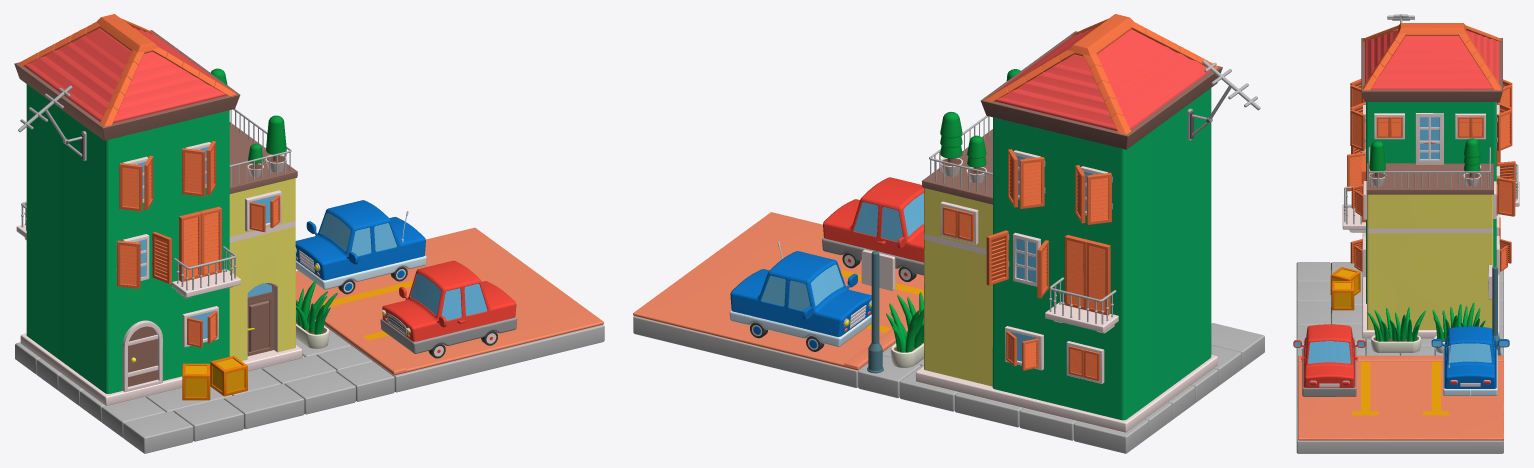
Rendered from City_Island_8.glb.
3 renders of one model, left to right at view 1: azimuth 30°, elevation 25°; view 2: azimuth 150°, elevation 25°; view 3: azimuth 270°, elevation 25°, orthographic. The views are drawn at different scales.
Parts seen in each view (by area): view 1: City_8_House_1, City_8_Base_1, City_8_Parking_1, City_8_Car_1, City_8_Car_2, City_8_Base_2, City_8_Plant_2, City_8_Box_1, City_8_Box_2, City_8_Plant_3, City_8_Antenna_1; view 2: City_8_House_1, City_8_Parking_1, City_8_Base_1, City_8_Car_2, City_8_Car_1, City_8_Base_2, City_8_Sign_Parking_1, City_8_Plant_1, City_8_Plant_4, City_8_Antenna_1, City_8_Plant_5; view 3: City_8_House_1, City_8_Parking_1, City_8_Base_1, City_8_Car_1, City_8_Car_2, City_8_Base_2, City_8_Plant_2, City_8_Plant_1, City_8_Plant_4, City_8_Box_1, City_8_Plant_3, City_8_Sign_Parking_1 (+1 smaller).
Boxes of the visible parts, x1,y1,x2,y2 form: City_8_House_1: (14,14,302,406); City_8_Base_1: (15,329,394,453); City_8_Parking_1: (296,227,603,375); City_8_Car_1: (380,260,517,358); City_8_Car_2: (295,200,426,294); City_8_Base_2: (316,318,604,392); City_8_Plant_2: (296,280,337,348); City_8_Box_1: (210,355,247,396); City_8_Box_2: (182,363,210,400); City_8_Plant_3: (265,115,287,172); City_8_Antenna_1: (18,85,86,160); City_8_House_1: (915,14,1222,432); City_8_Parking_1: (633,212,923,370); City_8_Base_1: (858,323,1264,453); City_8_Car_2: (729,241,871,351); City_8_Car_1: (822,177,923,281); City_8_Base_2: (633,316,895,387); City_8_Sign_Parking_1: (861,249,895,373); City_8_Plant_1: (886,292,923,367); City_8_Plant_4: (939,112,962,176); City_8_Antenna_1: (1187,60,1260,140); City_8_Plant_5: (966,135,986,183); City_8_House_1: (1342,23,1519,338); City_8_Parking_1: (1298,355,1503,440); City_8_Base_1: (1296,262,1503,360); City_8_Car_1: (1293,324,1365,396); City_8_Car_2: (1431,326,1509,395); City_8_Base_2: (1296,360,1503,453); City_8_Plant_2: (1367,307,1425,353); City_8_Plant_1: (1432,302,1485,353); City_8_Plant_4: (1463,138,1480,186); City_8_Box_1: (1332,281,1354,310); City_8_Plant_3: (1369,140,1386,186); City_8_Sign_Parking_1: (1488,265,1501,355).
Size of the model in its own units: 20.25 by 12.85 by 9.53.
Materials: 16 (16 with a texture image).
